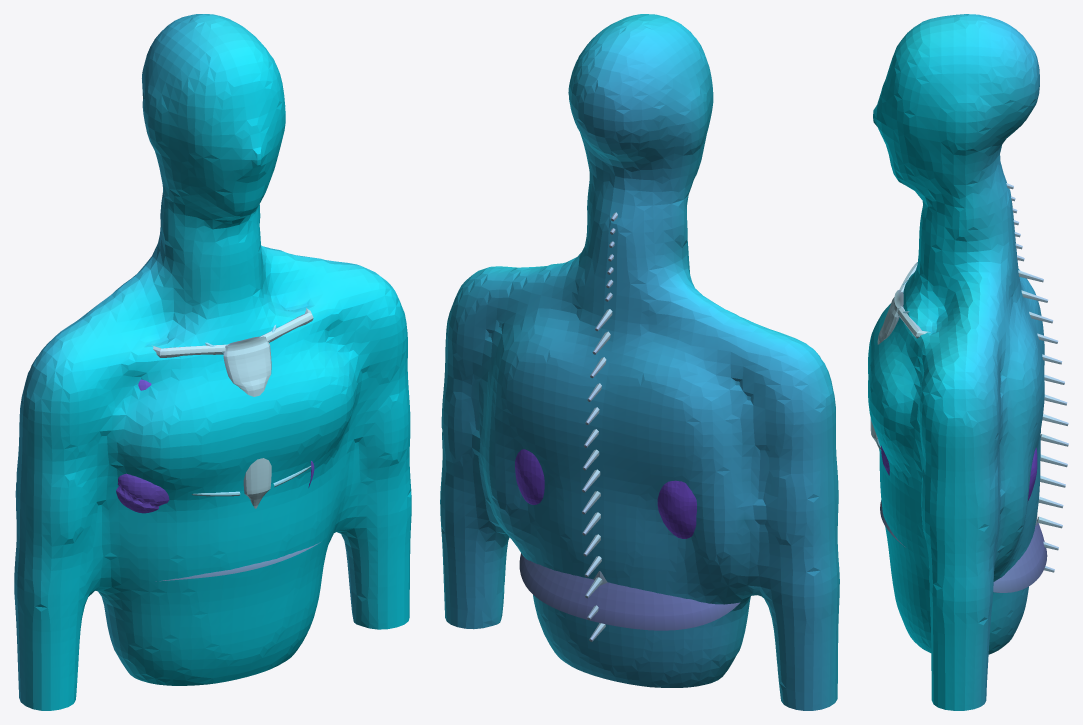
Rendered from humanRespiratoryXR.glb.
The picture shows the model from 3 angles, left to right: view 1: azimuth 30°, elevation 25°; view 2: azimuth 150°, elevation 25°; view 3: azimuth 270°, elevation 25°; orthographic projection. The views are drawn at different scales.
Visible parts, largest first — view 1: Body_Shell, Sternum, Lung_R, Clavicles, Diaphragm; view 2: Body_Shell, Diaphragm, Spine, Lung_R, Lung_L; view 3: Body_Shell, Spine, Diaphragm, Sternum, Clavicles, Lung_L.
Boxes of the visible parts, <box> form: Body_Shell: <box>14,14,411,710</box>; Sternum: <box>223,336,271,508</box>; Lung_R: <box>116,379,169,513</box>; Clavicles: <box>152,308,313,357</box>; Diaphragm: <box>155,542,320,581</box>; Body_Shell: <box>440,14,839,710</box>; Diaphragm: <box>519,553,740,630</box>; Spine: <box>582,212,617,641</box>; Lung_R: <box>657,480,696,538</box>; Lung_L: <box>515,449,544,504</box>; Body_Shell: <box>868,14,1044,710</box>; Spine: <box>1006,183,1068,572</box>; Diaphragm: <box>880,500,1047,592</box>; Sternum: <box>870,290,903,449</box>; Clavicles: <box>897,262,930,338</box>; Lung_L: <box>881,445,1037,500</box>.
Size of the model in its own units: 0.497 by 0.7793 by 0.235.
